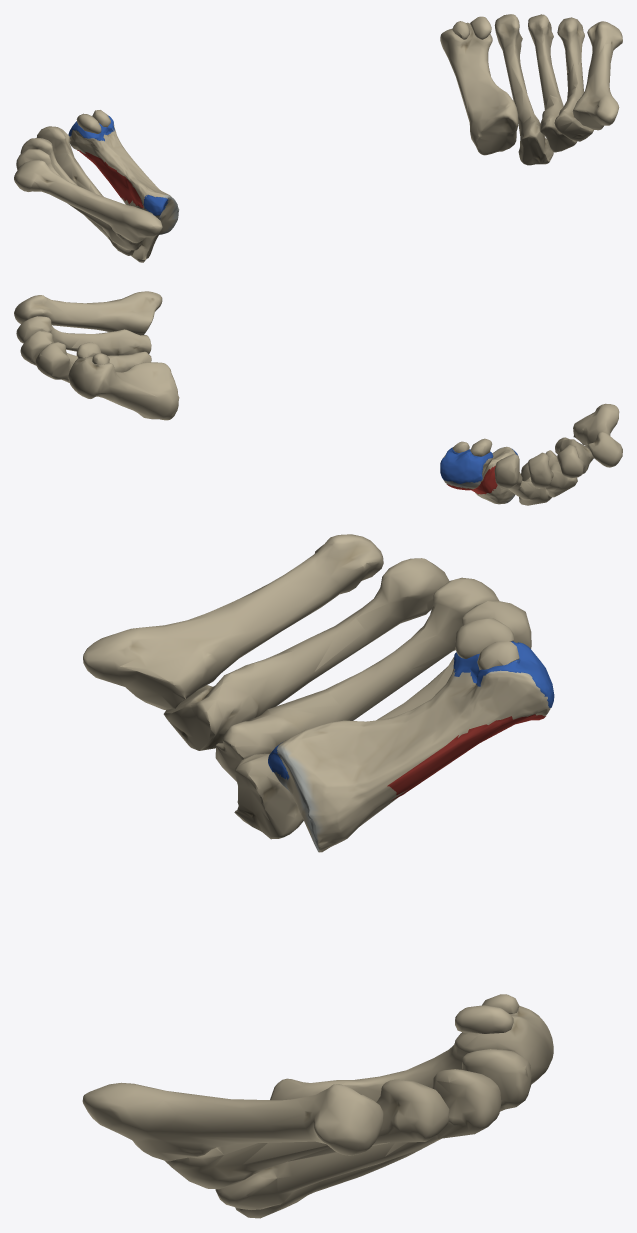
The model's file is ossa-metatarsi.glb.
3 renders of one model, top to bottom at view 1: azimuth 30°, elevation 25°; view 2: azimuth 150°, elevation 25°; view 3: azimuth 270°, elevation 25°, orthographic. The views are drawn at different scales.
Parts seen in each view (by area): view 1: FJ3241, FJ3359, FJ3244, FJ3253, FJ3351, FJ3247, FJ3250, FJ3353, FJ3357, origo__corpus__mm-interossei-dorsales-pedis, FJ3355, insertio__caput-sesamoidea__m-flexor-hallucis-brevis (+2 smaller); view 2: FJ3241, FJ3253, FJ3250, FJ3359, FJ3353, FJ3355, insertio__caput-sesamoidea__m-flexor-hallucis-brevis, FJ3247, FJ3357, FJ3244, FJ3351, origo__corpus__mm-interossei-dorsales-pedis (+2 smaller); view 3: FJ3351, FJ3359, FJ3253, FJ3357, FJ3355, FJ3247, FJ3250, FJ3353, FJ3241, FJ3244, origo__corpus__mm-interossei-dorsales-pedis, insertio__caput-sesamoidea__m-flexor-hallucis-brevis (+2 smaller).
Boxes of the visible parts, x1,y1,x2,y2 form: FJ3241: (440,22,518,155); FJ3359: (14,160,162,242); FJ3244: (494,14,553,165); FJ3253: (572,21,622,130); FJ3351: (69,123,179,232); FJ3247: (528,14,577,152); FJ3250: (554,17,593,141); FJ3353: (36,126,161,262); FJ3357: (16,149,143,250); origo__corpus__mm-interossei-dorsales-pedis: (77,150,143,208); FJ3355: (20,138,134,255); insertio__caput-sesamoidea__m-flexor-hallucis-brevis: (68,115,114,141); FJ3241: (68,356,179,420); FJ3253: (14,291,162,335); FJ3250: (16,316,151,355); FJ3359: (573,403,622,467); FJ3353: (494,454,551,505); FJ3355: (528,450,577,497); insertio__caput-sesamoidea__m-flexor-hallucis-brevis: (440,447,493,483); FJ3247: (20,331,151,372); FJ3357: (555,437,593,478); FJ3244: (35,342,72,382); FJ3351: (443,446,516,496); origo__corpus__mm-interossei-dorsales-pedis: (446,465,497,494); FJ3351: (274,669,550,852); FJ3359: (83,534,383,710); FJ3253: (82,1082,383,1161); FJ3357: (163,558,449,750); FJ3355: (215,577,499,781); FJ3247: (215,1069,501,1209); FJ3250: (165,1079,449,1189); FJ3353: (234,600,531,839); FJ3241: (270,1005,553,1101); FJ3244: (235,1049,531,1218); origo__corpus__mm-interossei-dorsales-pedis: (387,714,545,800); insertio__caput-sesamoidea__m-flexor-hallucis-brevis: (453,641,554,707).
Size of the model in its own units: 305 by 51.51 by 103.
